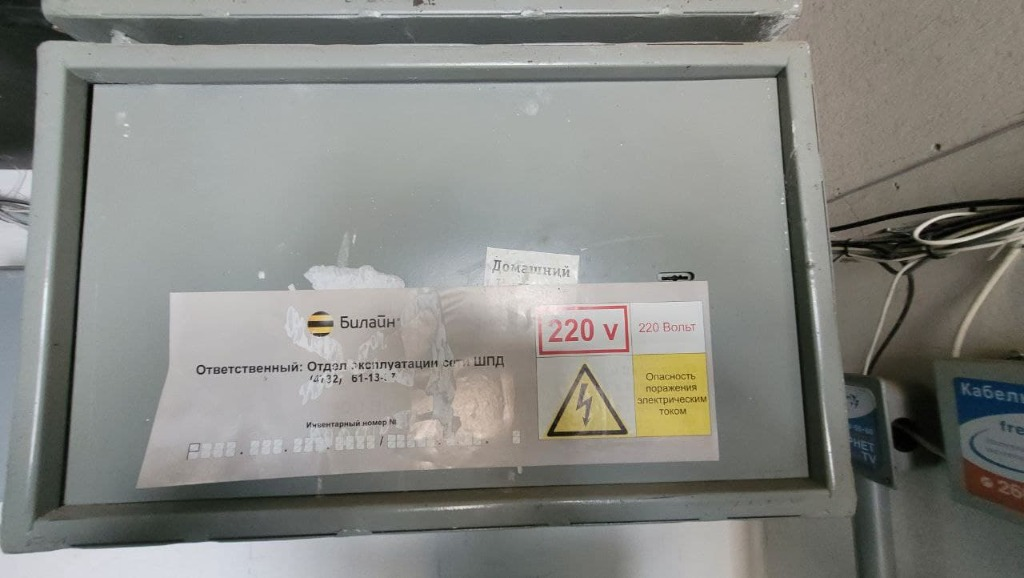shta-7m: (7, 29, 863, 546)
